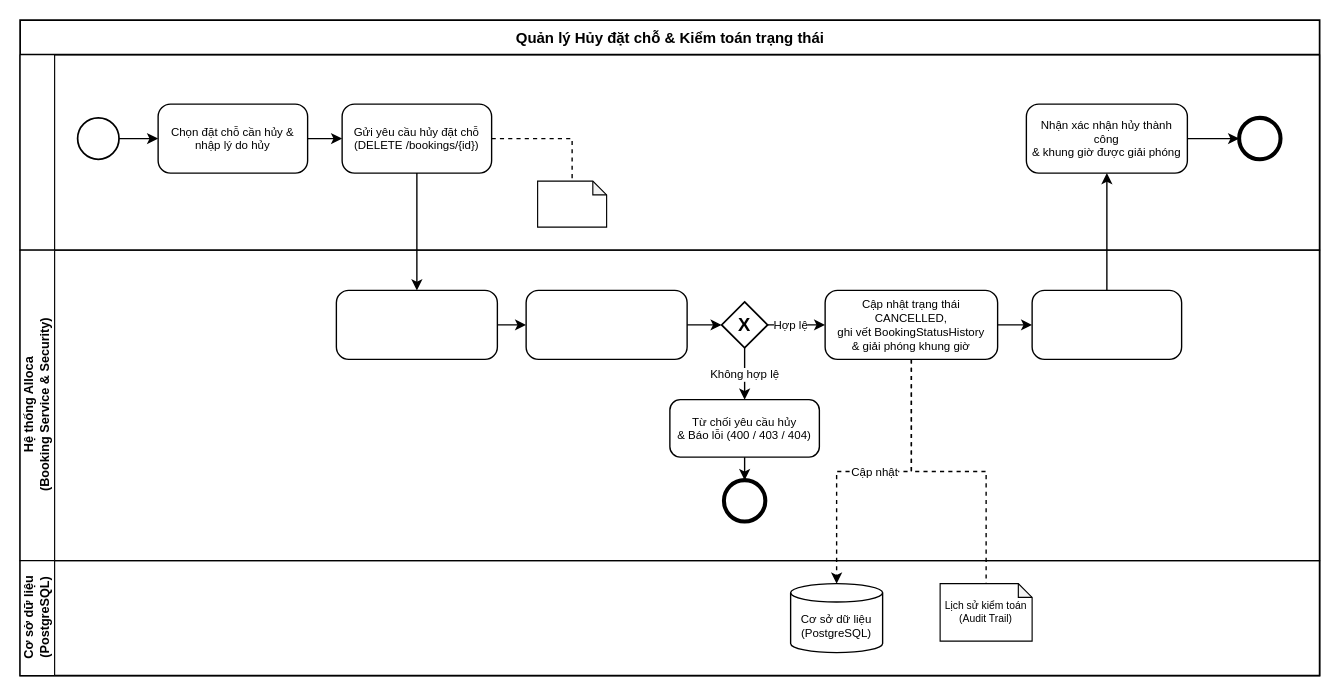
This 1341x697 diagram has some shape labels left out. The shapes that lost their labels are listed below. From the top down, each one's box as (x1, y1, x2, y2) in pixels, then its label:
(19, 53, 1320, 250): Người yêu cầu (Chủ đặt / Quản lý / Admin)
(536, 180, 607, 227): Yêu cầu hủy đặt chỗ
(335, 289, 497, 359): Kiểm tra booking tồn tại & đang ở trạng thái CONFIRMED
(525, 289, 687, 359): Kiểm tra quyền hạn & thời gian bắt đầu (chưa diễn ra)
(1031, 289, 1182, 359): Kích hoạt thông báo in-app xác nhận hủy đặt chỗ
